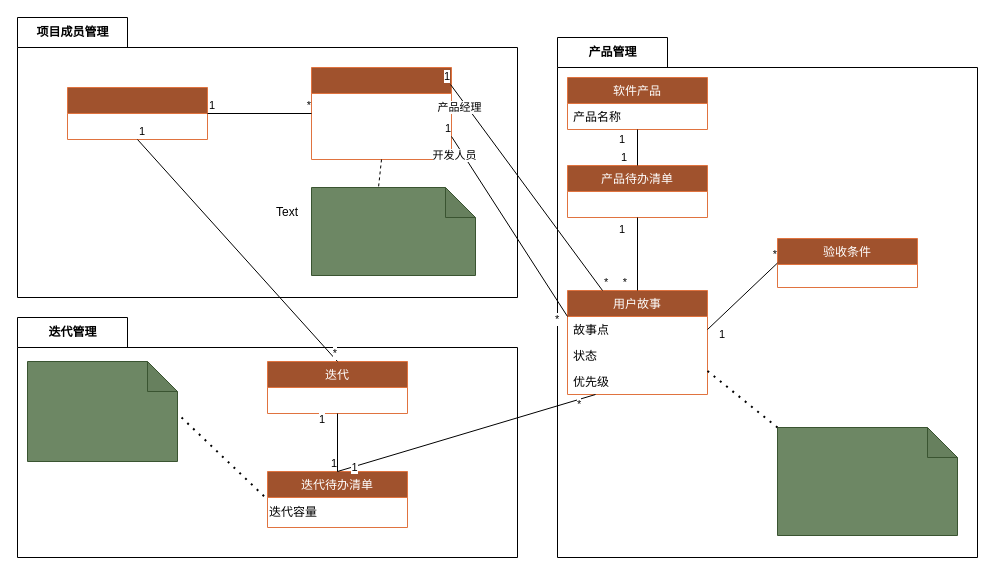
Image size: 995x575. Some labels were removed from this diagram. Each missing label, with the centre of its shape:
"- 开发人员 - 产品经理" belongs at pixel 393 231.
"{ - 每个用户故事有TODO、DOING、DONE 三种状态 - 故事点只能有开发 - 状态只能由开发人员切换 - 优先级只能由产品经理调整 }" belongs at pixel 867 481.
"{ - 迭代待办清单所有故事点的和不能超过迭代容量 }" belongs at pixel 102 411.
"敏捷团队" belongs at pixel 137 113.
"项目成员" belongs at pixel 381 113.
